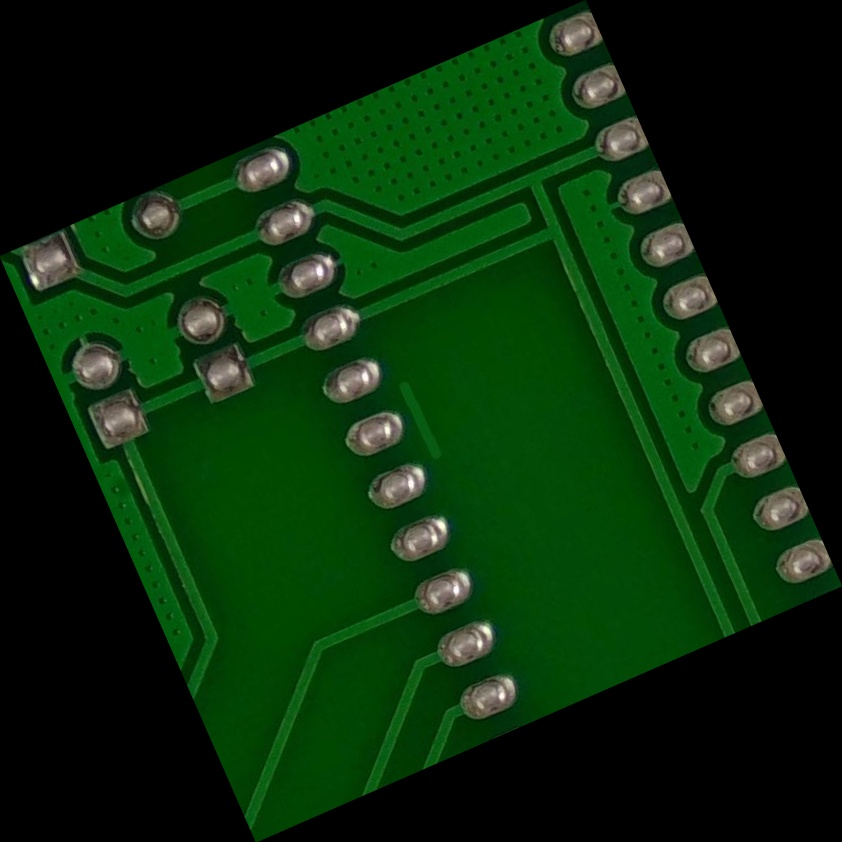spurious_copper: (376, 363, 467, 480)
